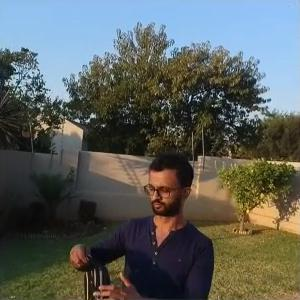follow: (45, 144, 196, 299)
